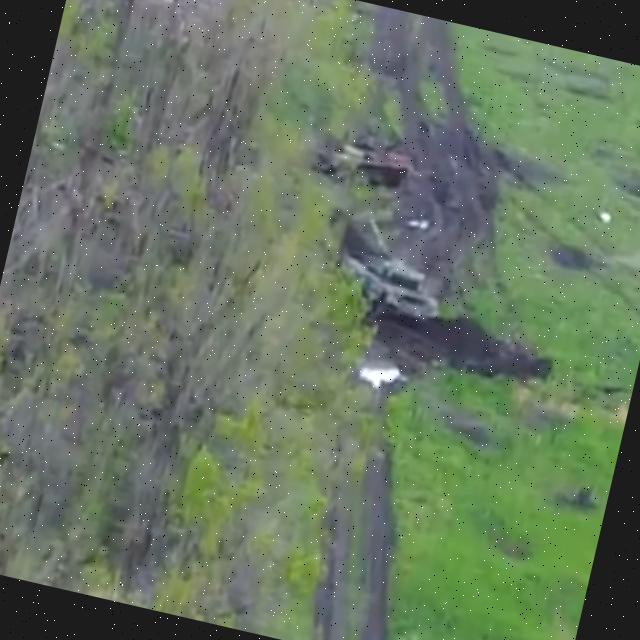Destroyed: (311, 122, 430, 204)
MBT: (331, 213, 460, 335)
